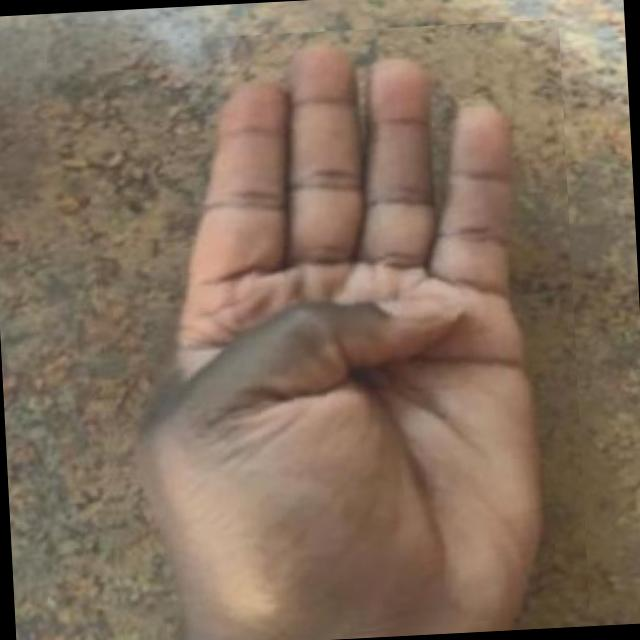B: (83, 19, 590, 640)
